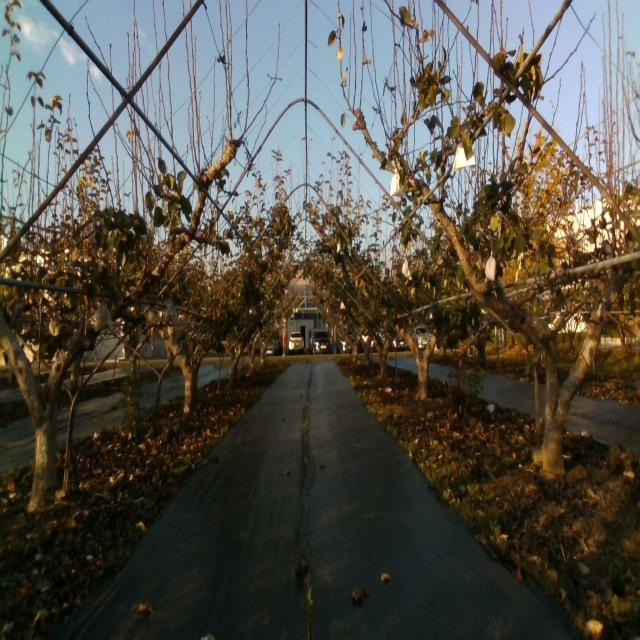pearbags: (452, 141, 476, 171), (94, 302, 113, 332), (390, 168, 405, 197), (485, 250, 497, 281), (165, 301, 178, 321), (402, 258, 412, 280)
